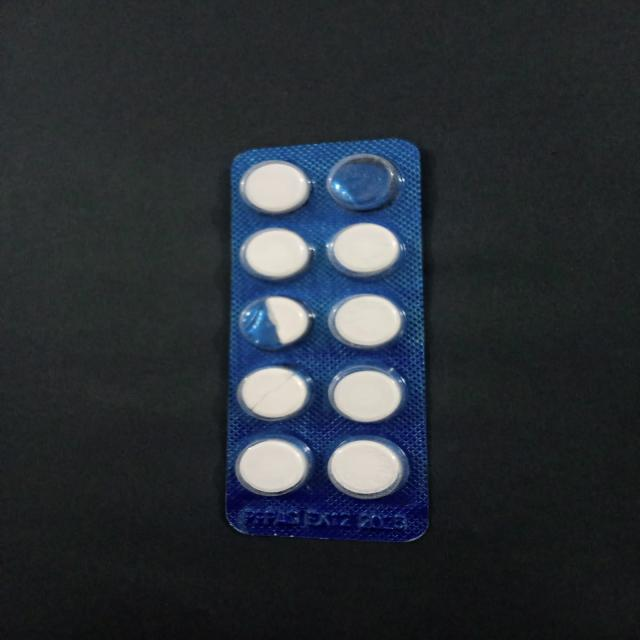defect: (233, 362, 318, 424), (323, 153, 408, 214), (237, 292, 316, 354)
